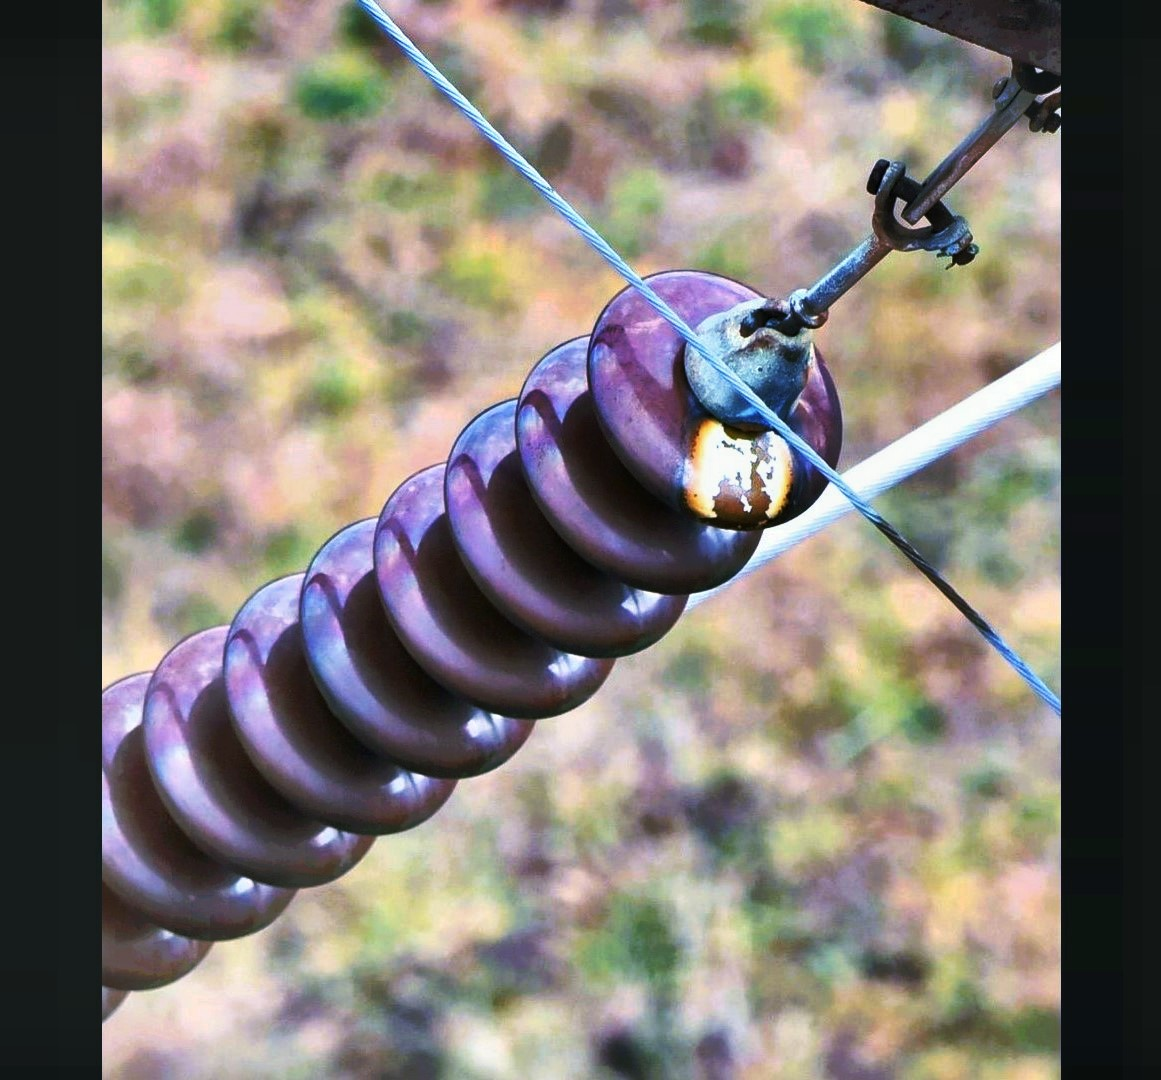Insulator flashover: (570, 258, 863, 543)
